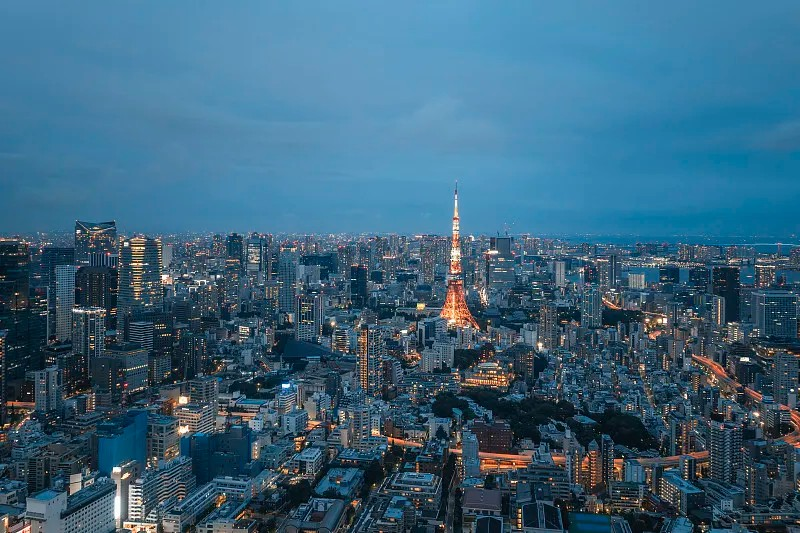Tokyo: (441, 179, 478, 327)
